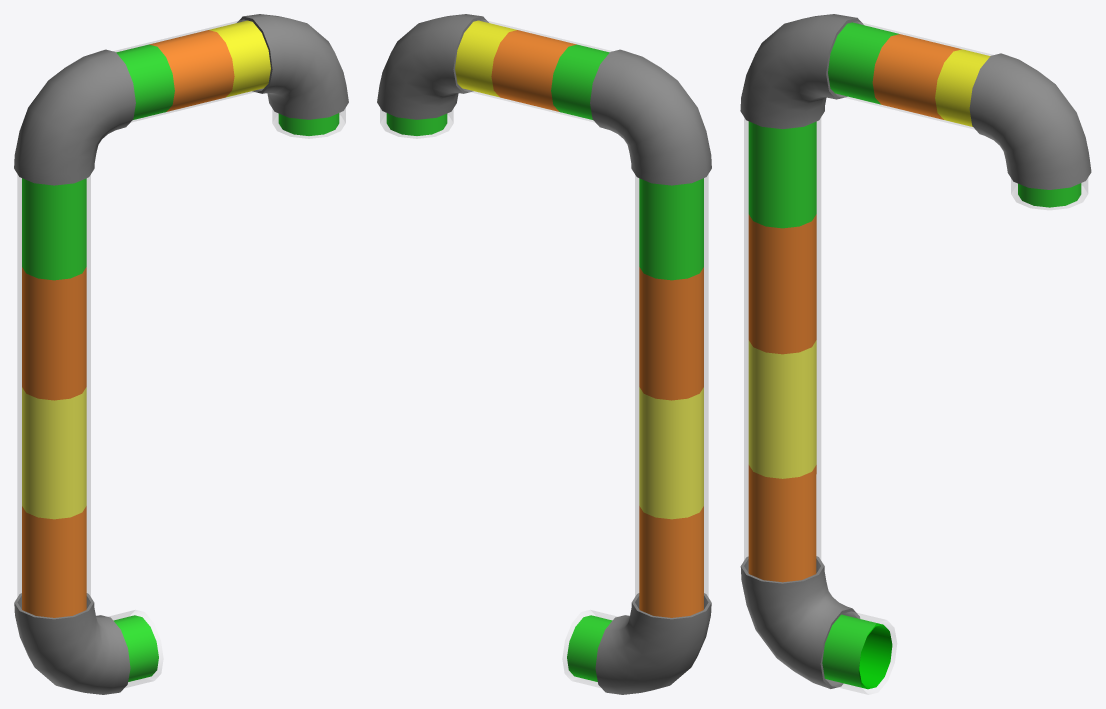
Rendered from pipe_stand_3.fbx.
3 renders of one model, left to right at view 1: azimuth 30°, elevation 25°; view 2: azimuth 150°, elevation 25°; view 3: azimuth 330°, elevation 25°, orthographic. The views are drawn at different scales.
Visible parts, largest first — view 1: pipe_stand orange.yellow; view 2: pipe_stand orange.yellow; view 3: pipe_stand orange.yellow.
Part boxes in pixels (x1=…): pipe_stand orange.yellow: x1=14, y1=14, x2=348, y2=694; pipe_stand orange.yellow: x1=377, y1=14, x2=711, y2=694; pipe_stand orange.yellow: x1=740, y1=14, x2=1091, y2=694.
Bounding box in the file's own units: 139 × 260 × 29.84.
